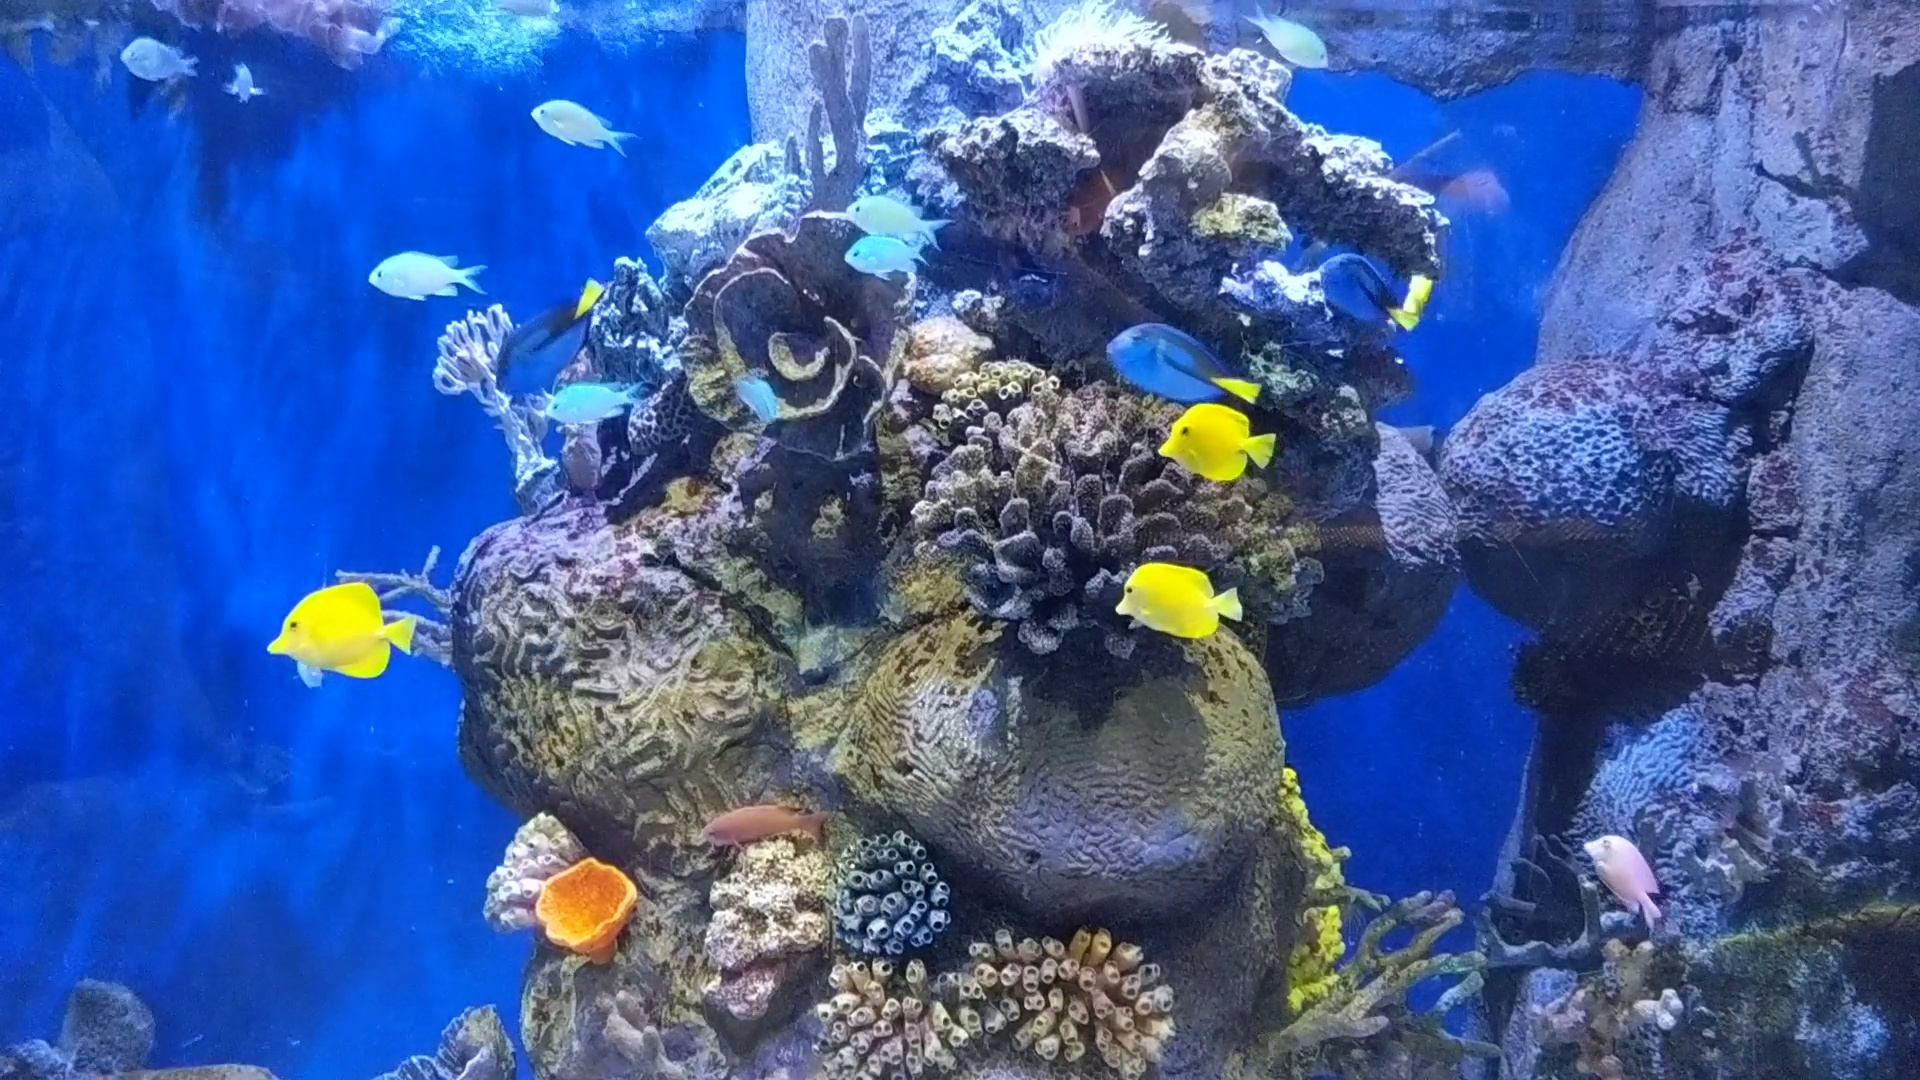blue tang surgeonfish: (1112, 310, 1276, 415), (483, 282, 608, 392), (1304, 249, 1422, 344)
damselfish: (360, 233, 495, 313), (1230, 3, 1335, 84), (522, 367, 647, 429), (835, 187, 949, 249), (522, 98, 626, 165), (835, 225, 943, 282), (103, 29, 208, 83), (723, 357, 785, 419), (224, 59, 278, 113)
pink fish: (1571, 818, 1683, 934)
saddle butterfly fish: (251, 578, 419, 686), (1112, 549, 1258, 644), (1153, 398, 1280, 484)
